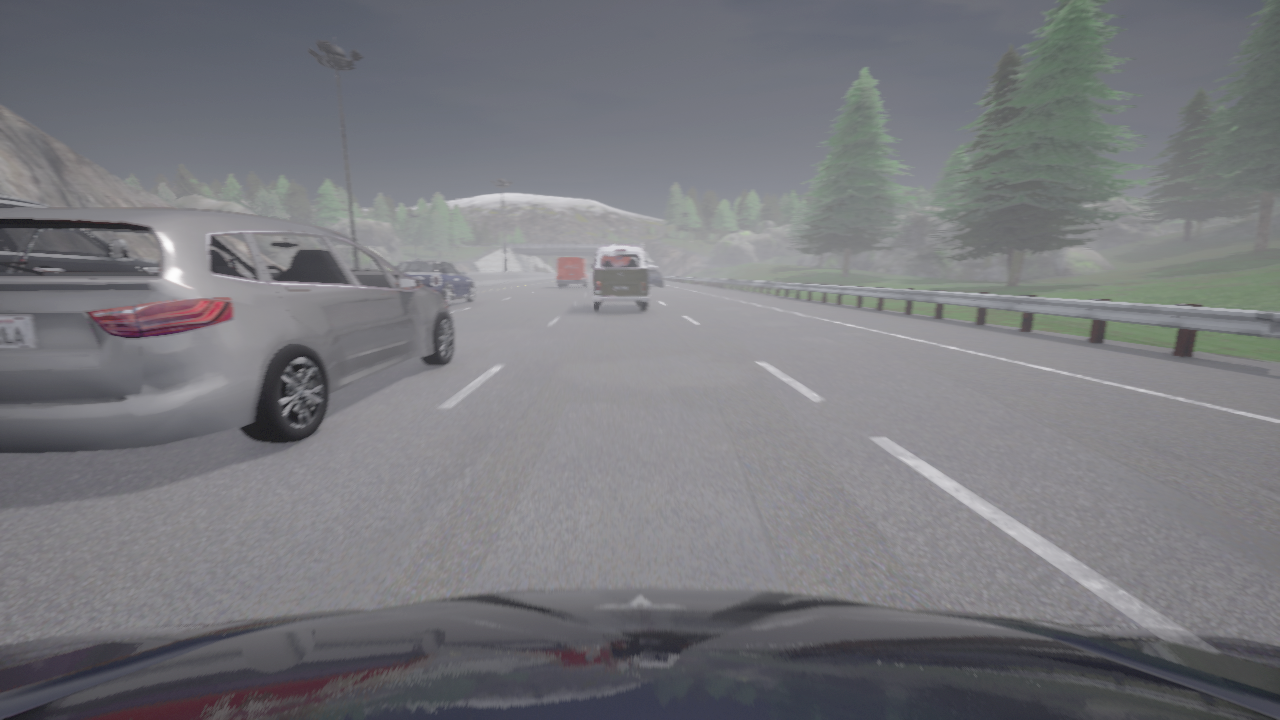cyclist: (0, 588, 1279, 719), (0, 207, 453, 453), (591, 245, 648, 311), (395, 259, 475, 306), (557, 258, 588, 287), (647, 271, 662, 286), (647, 264, 658, 271)
